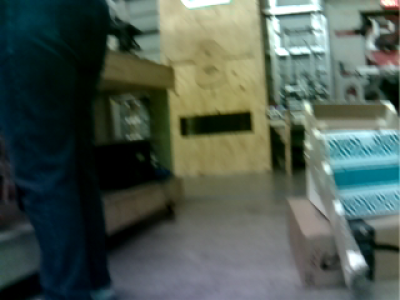target: (180, 1, 231, 8)
